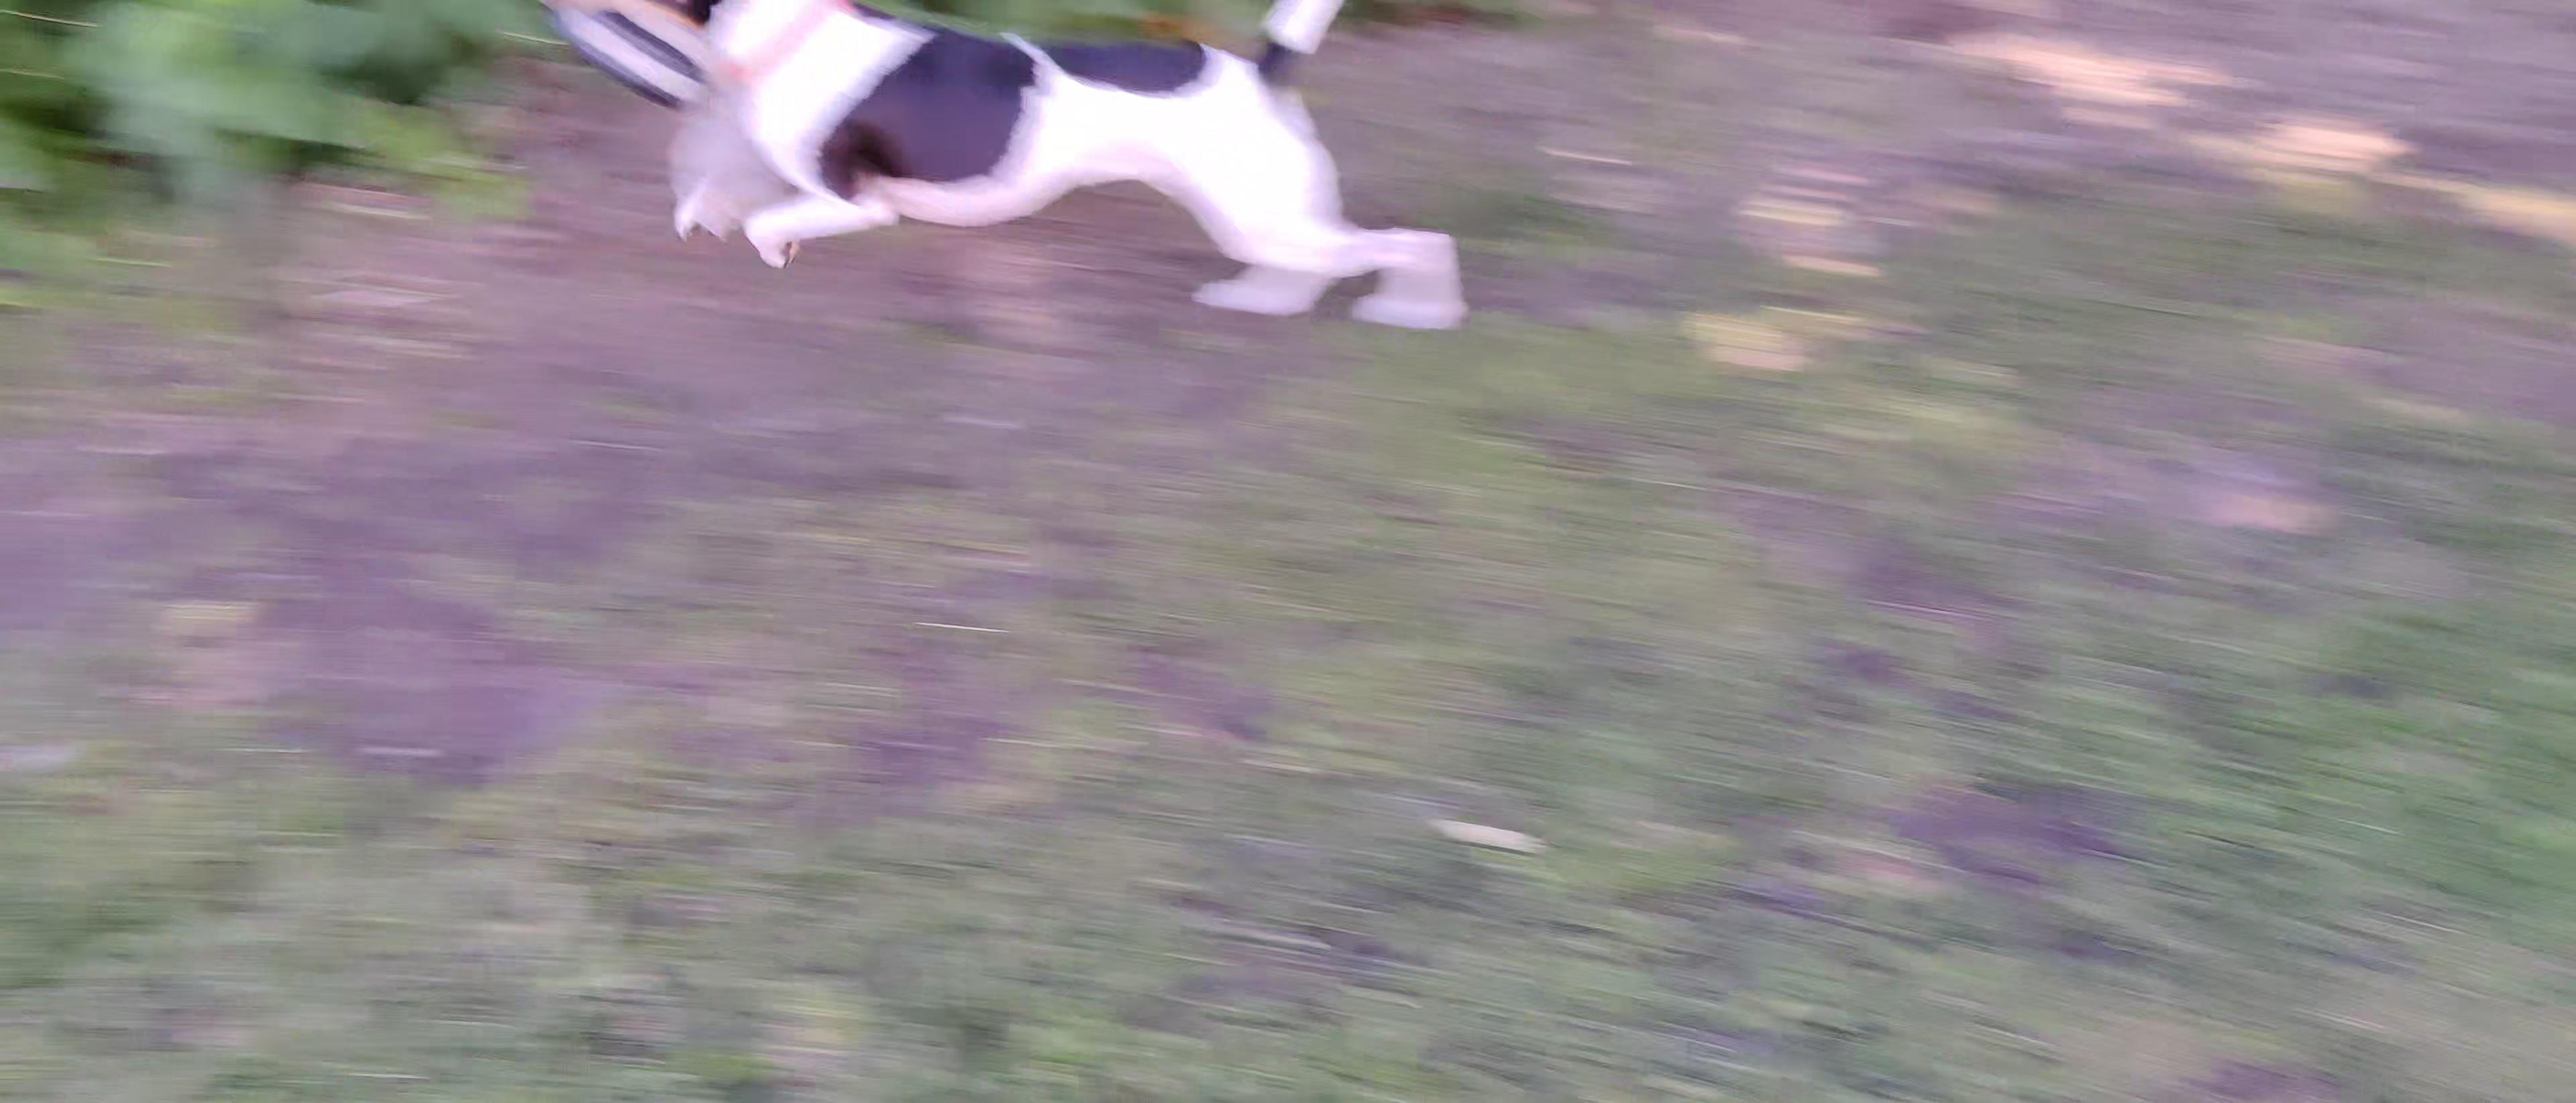Dog: (516, 0, 1482, 347)
